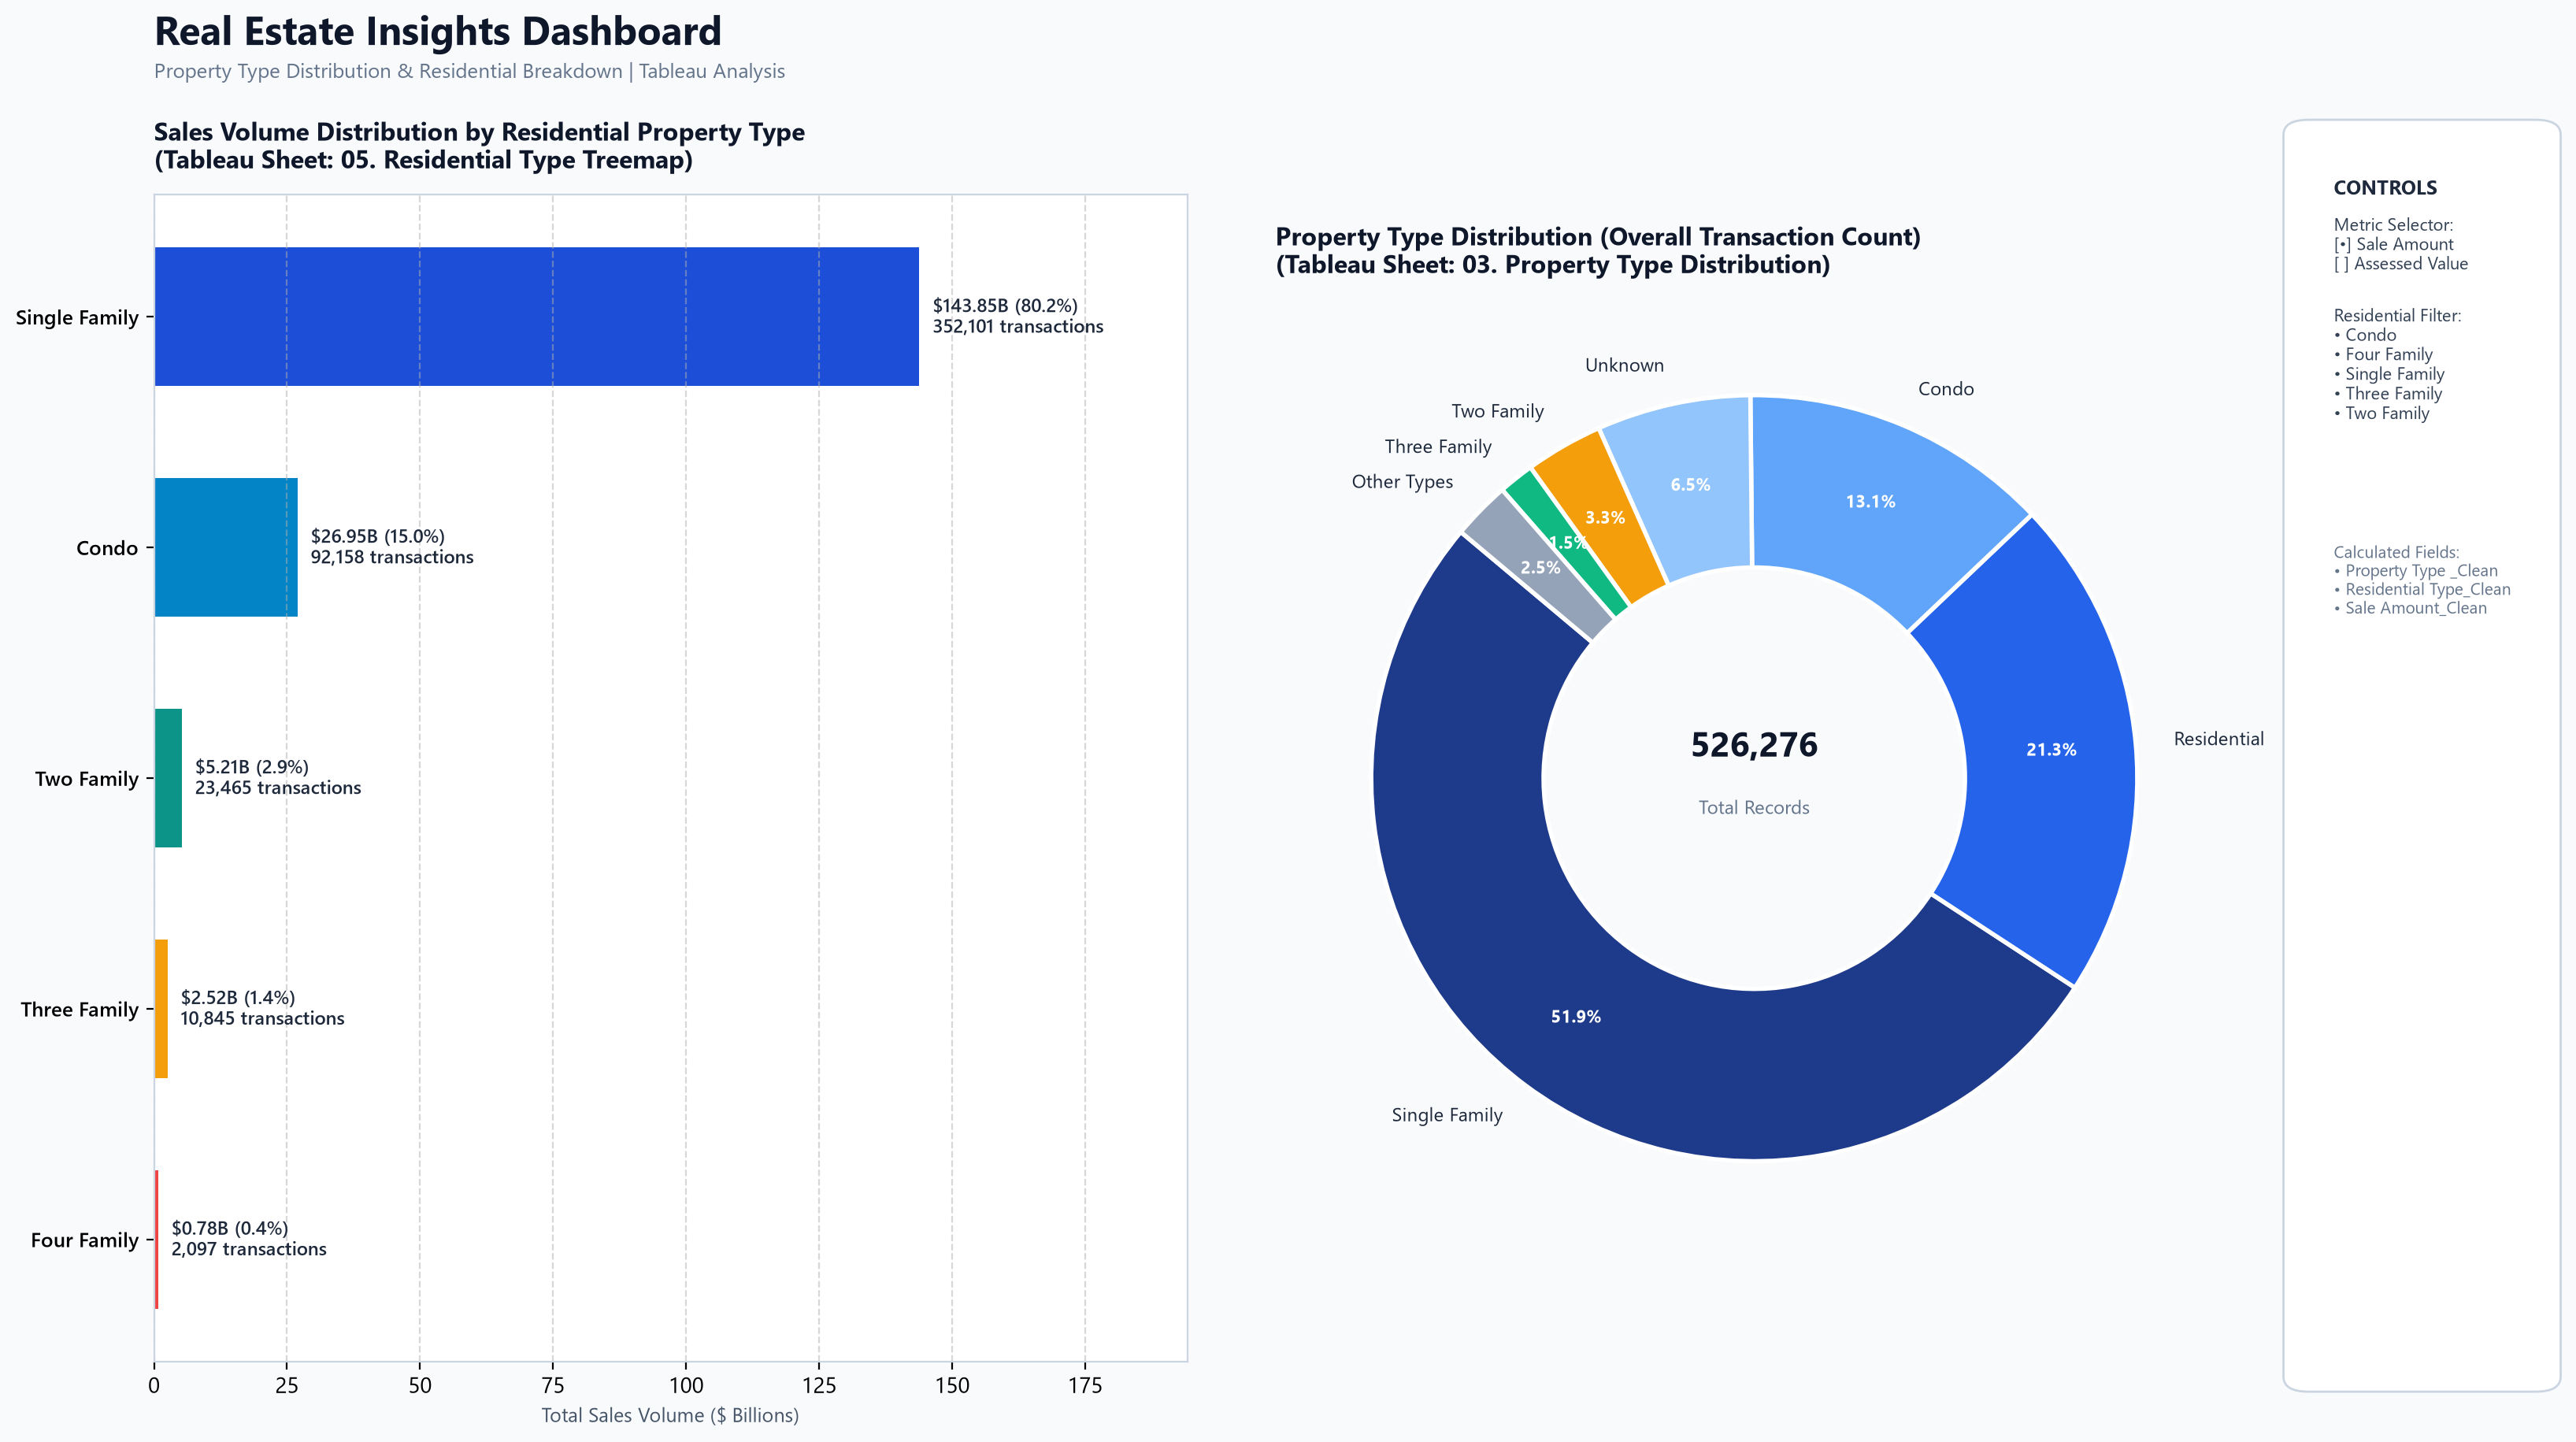

The page's visual inventory and layout, read from the dashboard file:
{"tool":"tableau","page":{"name":"Real Estate Insights Dashboard","canvas":[1000,1000],"units":"permille","ordinal":1},"visuals":[{"type":"title","box":[4.8,8.2,990.3,46.4]},{"type":"worksheet","title":"05. Residential Type Treemap","mark":"Automatic","box":[4.8,54.6,446.9,937.2]},{"type":"worksheet","title":"03. Property Type Distribution","mark":"Pie","box":[451.7,54.6,446.9,937.2]},{"type":"legend","title":"05. Residential Type Treemap","param":"[federated.1p2w3xb05bzdm717pvqak1xr3v6i].[sum:Sale Amount:qk]","box":[898.6,54.6,96.6,75.2]},{"type":"legend","title":"03. Property Type Distribution","param":"[federated.1p2w3xb05bzdm717pvqak1xr3v6i].[cnt:Serial Number:qk]","box":[898.6,129.8,96.6,52.5]},{"type":"legend","title":"03. Property Type Distribution","param":"[federated.1p2w3xb05bzdm717pvqak1xr3v6i].[none:Calculation_0759502720811008:nk]","box":[898.6,182.3,96.6,290.4]}]}

Visuals, with their boxes on the dashboard's canvas, which has no fixed pixel size, in thousandths of its width and height (x1, y1, x2, y2). These are canvas units, not pixel positions in the 2576x1442 screenshot, which may show the page scaled, cropped or inside an application window:
title: <bbox>5, 8, 995, 55</bbox>
"05. Residential Type Treemap" worksheet: <bbox>5, 55, 452, 992</bbox>
"03. Property Type Distribution" worksheet (Pie marks): <bbox>452, 55, 899, 992</bbox>
"05. Residential Type Treemap" legend: <bbox>899, 55, 995, 130</bbox>
"03. Property Type Distribution" legend: <bbox>899, 130, 995, 182</bbox>
"03. Property Type Distribution" legend: <bbox>899, 182, 995, 473</bbox>
